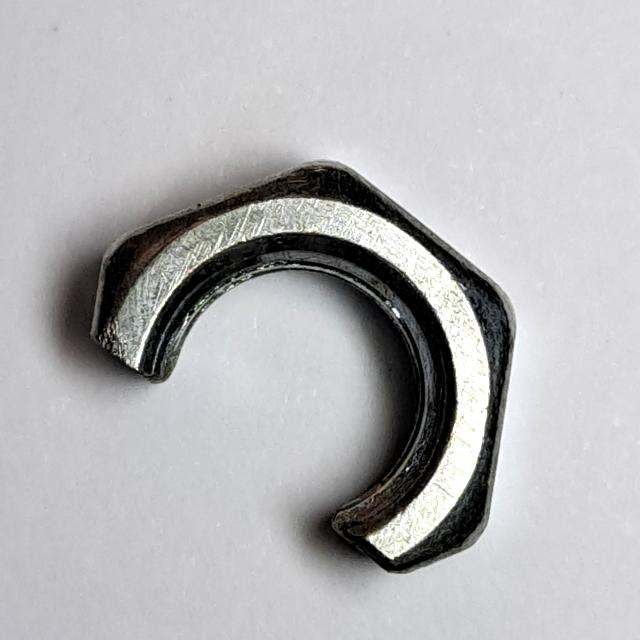Fracture: (81, 148, 530, 583)
